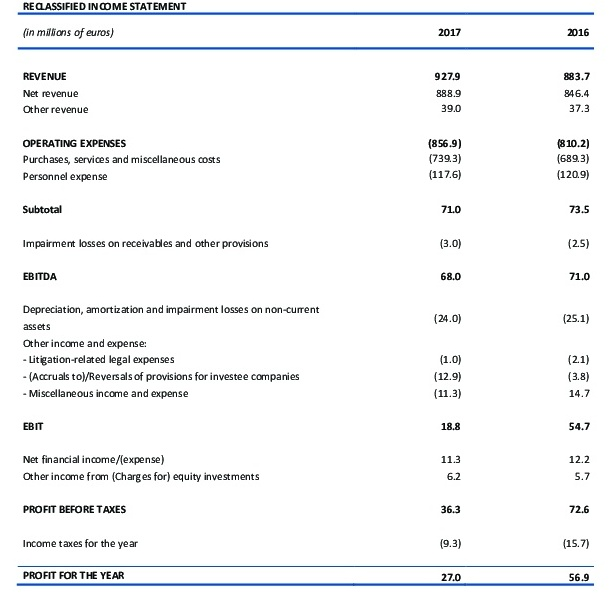table: (0, 0, 612, 604)
